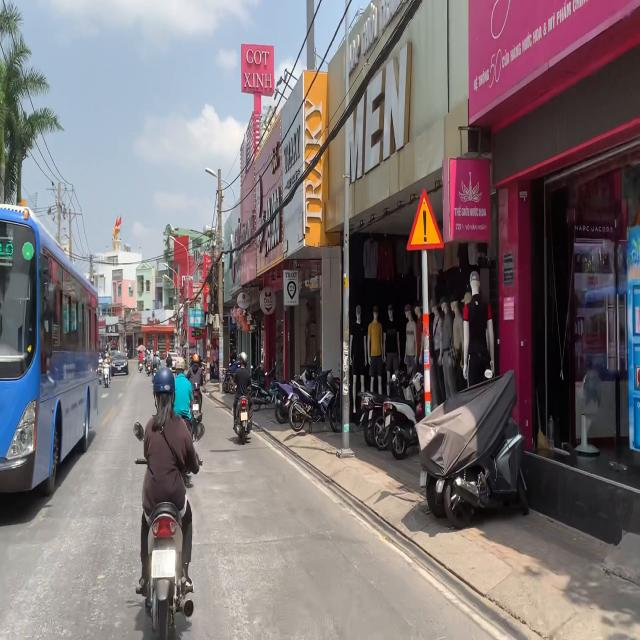Nguy hiem: (406, 187, 444, 252)
